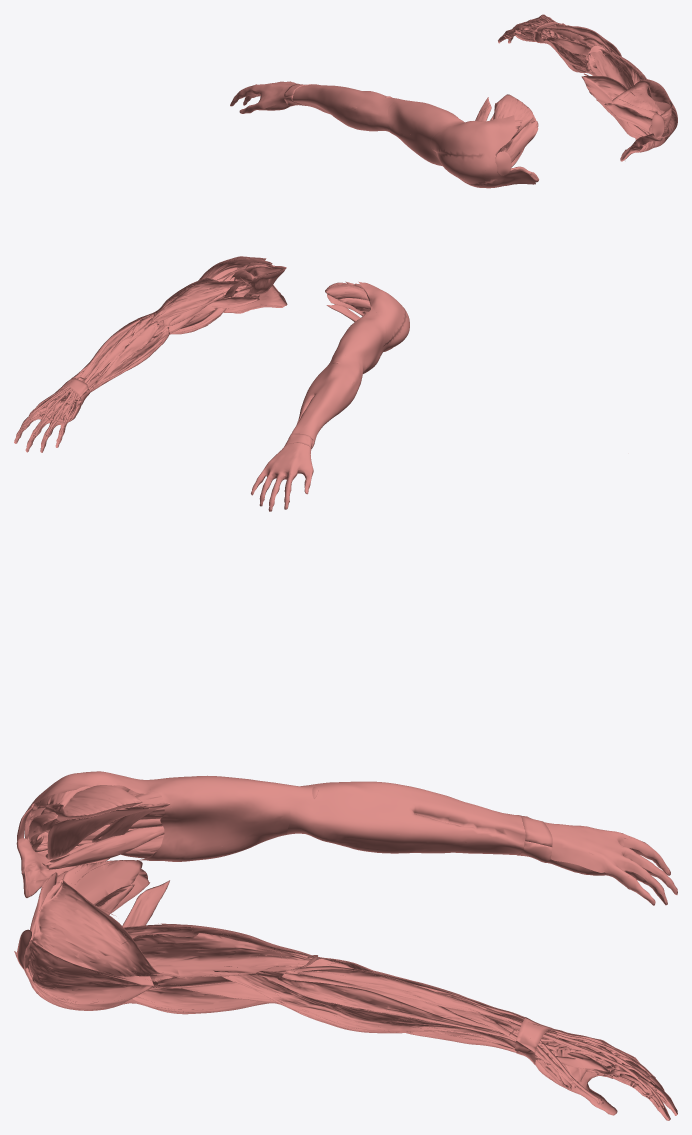
File: upperlimb__muscular.d4d4f83580.glb
3 renders of one model, top to bottom at view 1: azimuth 30°, elevation 25°; view 2: azimuth 150°, elevation 25°; view 3: azimuth 270°, elevation 25°, orthographic. The views are drawn at different scales.
Visible parts, largest first — view 1: Deltoid fascia.r, Antebrachial fascia.r, Brachial fascia.r, Scapular spinal part of deltoid muscle.l, Infraspinatus muscle.l, Dorsal fascia of hand.r, Long head of triceps brachii.l, Infraspinatus muscle.r, Supraspinatus muscle.l, Supraspinatus muscle.r, Extensor digitorum.l, Clavicular part of deltoid muscle.l (+7 smaller); view 2: Antebrachial fascia.r, Dorsal fascia of hand.r, Brachial fascia.r, Deltoid fascia.r, Long head of triceps brachii.l, Extensor digitorum.l, Ulnar head of flexor carpi ulnaris.l, Scapular spinal part of deltoid muscle.l, Clavicular part of deltoid muscle.l, Humeral head of flexor carpi ulnaris.l, Palmar aponeurosis.l, Short head of biceps brachii.l (+6 smaller); view 3: Antebrachial fascia.r, Brachial fascia.r, Scapular spinal part of deltoid muscle.l, Lateral head of triceps brachii.l, Dorsal fascia of hand.r, Brachioradialis muscle.l, Acromial part of deltoid muscle.l, Extensor digitorum.l, Extensor carpi radialis longus.l, Infraspinatus muscle.l, Long head of biceps brachii.l, Subscapularis muscle.r (+12 smaller).
Part boxes in pixels (box(x1,y1,x2,y2)): Deltoid fascia.r: box(429, 115, 535, 188); Antebrachial fascia.r: box(292, 84, 398, 131); Brachial fascia.r: box(388, 99, 464, 165); Scapular spinal part of deltoid muscle.l: box(612, 80, 670, 114); Infraspinatus muscle.l: box(581, 75, 657, 118); Dorsal fascia of hand.r: box(230, 81, 299, 112); Long head of triceps brachii.l: box(590, 49, 633, 88); Infraspinatus muscle.r: box(493, 94, 533, 155); Supraspinatus muscle.l: box(604, 103, 668, 136); Supraspinatus muscle.r: box(502, 120, 538, 162); Extensor digitorum.l: box(504, 15, 612, 52); Clavicular part of deltoid muscle.l: box(620, 133, 666, 161); Antebrachial fascia.r: box(291, 354, 363, 442); Dorsal fascia of hand.r: box(251, 443, 313, 511); Brachial fascia.r: box(331, 304, 385, 373); Deltoid fascia.r: box(358, 281, 409, 351); Long head of triceps brachii.l: box(152, 281, 250, 322); Extensor digitorum.l: box(21, 316, 147, 434); Ulnar head of flexor carpi ulnaris.l: box(92, 321, 159, 387); Scapular spinal part of deltoid muscle.l: box(198, 258, 274, 281); Clavicular part of deltoid muscle.l: box(223, 285, 287, 312); Humeral head of flexor carpi ulnaris.l: box(75, 328, 169, 402); Palmar aponeurosis.l: box(14, 394, 81, 452); Short head of biceps brachii.l: box(170, 295, 259, 334); Antebrachial fascia.r: box(287, 781, 525, 855); Brachial fascia.r: box(111, 775, 290, 861); Scapular spinal part of deltoid muscle.l: box(32, 879, 174, 981); Lateral head of triceps brachii.l: box(122, 932, 311, 977); Dorsal fascia of hand.r: box(544, 822, 677, 904); Brachioradialis muscle.l: box(213, 970, 525, 1053); Acromial part of deltoid muscle.l: box(23, 940, 158, 1004); Extensor digitorum.l: box(297, 969, 655, 1094); Extensor carpi radialis longus.l: box(256, 972, 559, 1051); Infraspinatus muscle.l: box(51, 860, 142, 904); Long head of biceps brachii.l: box(131, 986, 269, 1012); Subscapularis muscle.r: box(45, 805, 149, 859).
Size of the model in its own units: 1290 by 208 by 704.
